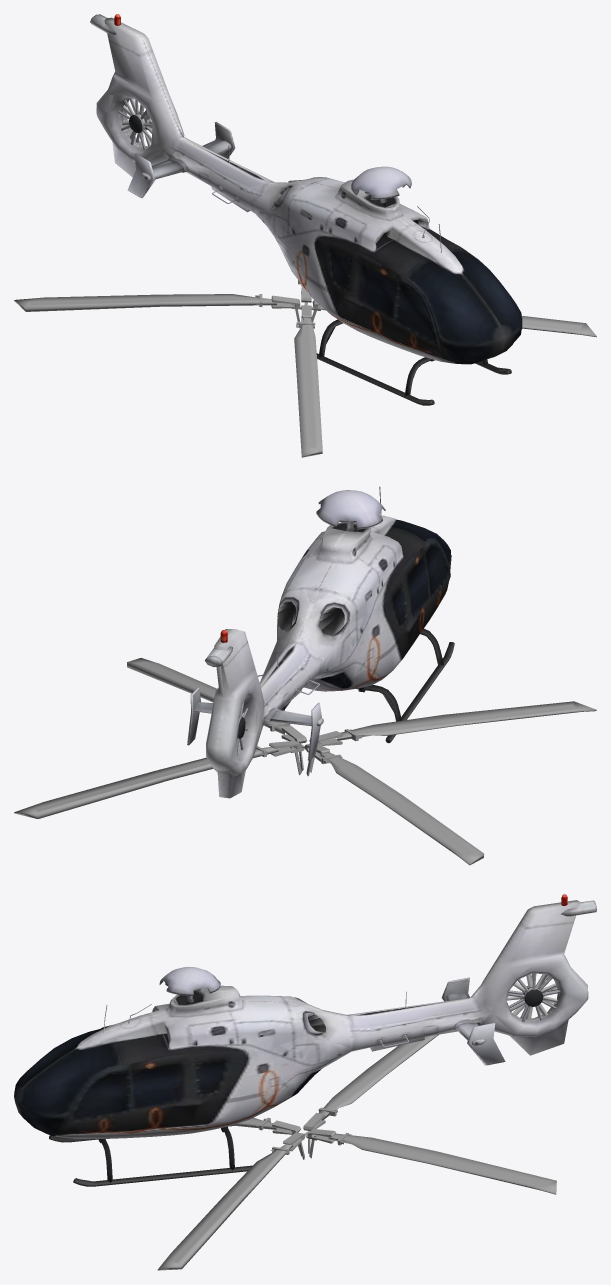
File: heli.glb
3 renders of one model, top to bottom at view 1: azimuth 30°, elevation 25°; view 2: azimuth 150°, elevation 25°; view 3: azimuth 270°, elevation 25°, orthographic. The views are drawn at different scales.
Visible parts, largest first — view 1: kit0, kit1, rotor, far; view 2: kit0, rotor, kit1, far; view 3: kit0, kit1, rotor, far.
Boxes of the visible parts, left/top/right/bottom form: kit0: left=90, top=14, right=522, bottom=405; kit1: left=96, top=15, right=521, bottom=403; rotor: left=14, top=179, right=596, bottom=457; far: left=97, top=23, right=519, bottom=402; kit0: left=191, top=486, right=454, bottom=798; rotor: left=14, top=658, right=596, bottom=865; kit1: left=187, top=499, right=452, bottom=797; far: left=207, top=509, right=452, bottom=796; kit0: left=14, top=894, right=596, bottom=1186; kit1: left=15, top=901, right=594, bottom=1182; rotor: left=157, top=1034, right=556, bottom=1270; far: left=16, top=911, right=588, bottom=1186.
Size of the model in its own units: 10.38 by 5.49 by 12.
Materials: 1 (1 with a texture image).
